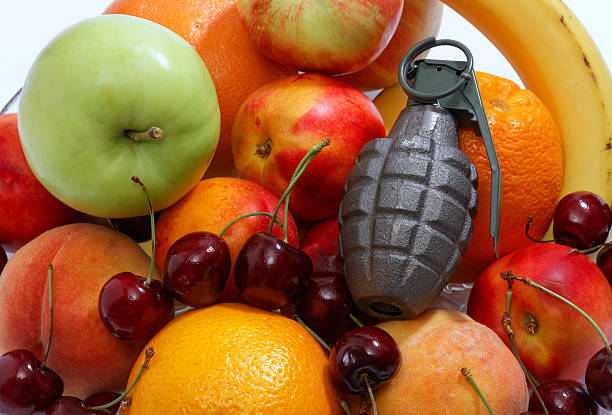e1: (334, 37, 500, 317)
